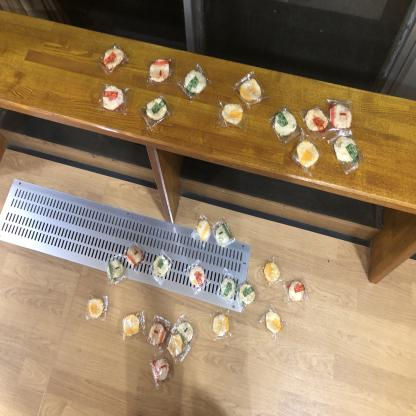green_setoshio: (139, 93, 174, 133), (330, 134, 366, 172), (180, 61, 211, 102), (270, 105, 299, 144), (150, 249, 174, 284), (104, 252, 126, 286), (213, 217, 236, 249), (238, 276, 257, 313), (217, 274, 239, 299), (183, 313, 197, 343)
red_setoshio: (327, 96, 356, 136), (99, 82, 132, 117), (148, 355, 175, 390), (146, 55, 176, 86), (282, 274, 310, 306), (100, 43, 129, 72), (302, 102, 328, 134), (147, 316, 170, 349), (187, 261, 210, 293), (125, 240, 146, 270)
yellow_setoshio: (290, 134, 324, 177), (214, 94, 249, 134), (257, 303, 288, 341), (235, 72, 266, 106), (259, 255, 284, 288), (208, 307, 232, 340), (122, 310, 147, 341), (192, 212, 213, 244), (87, 293, 107, 322), (168, 332, 185, 357)
